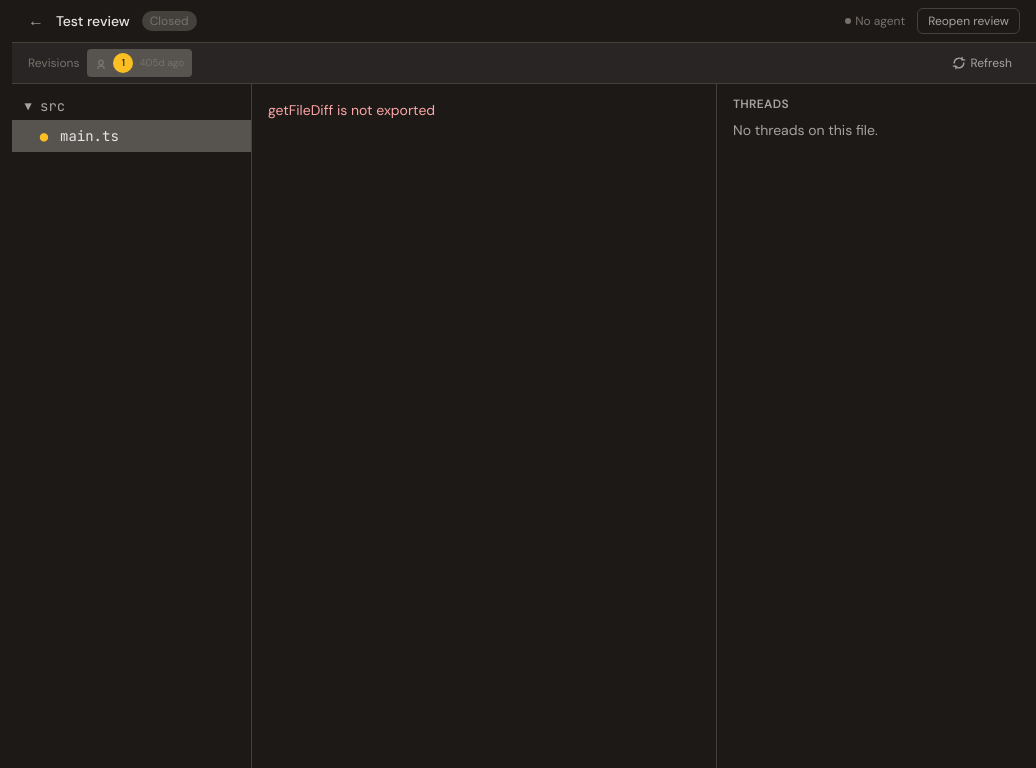
ReviewView status toggle › toggles button text after reopening
Click the button "Reopen review".
click(969, 21)  # box x1=917 y1=8 x2=1020 y2=34
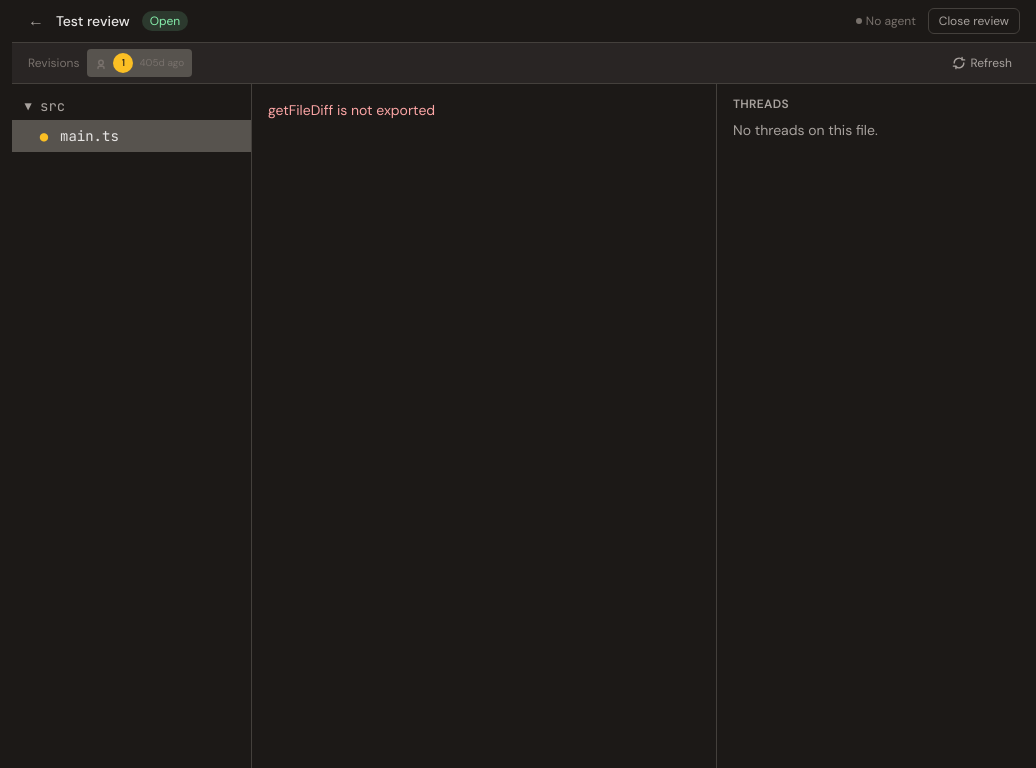
expect the button "Close review" is shown: met, box x1=928 y1=8 x2=1020 y2=34
